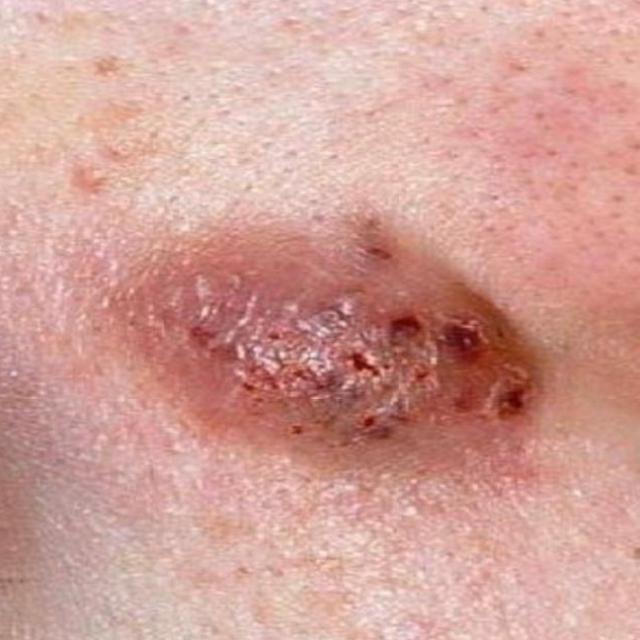nodule: (107, 230, 551, 507)
